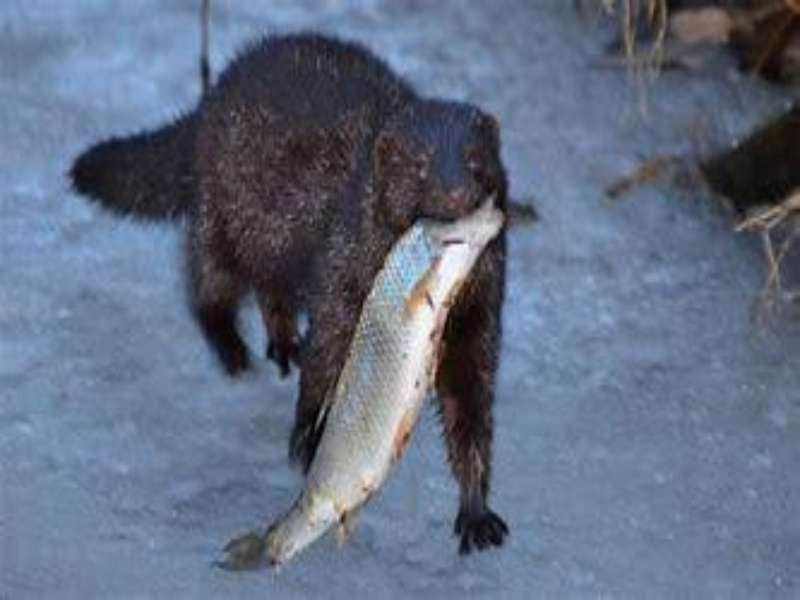minkish: (67, 29, 522, 560)
